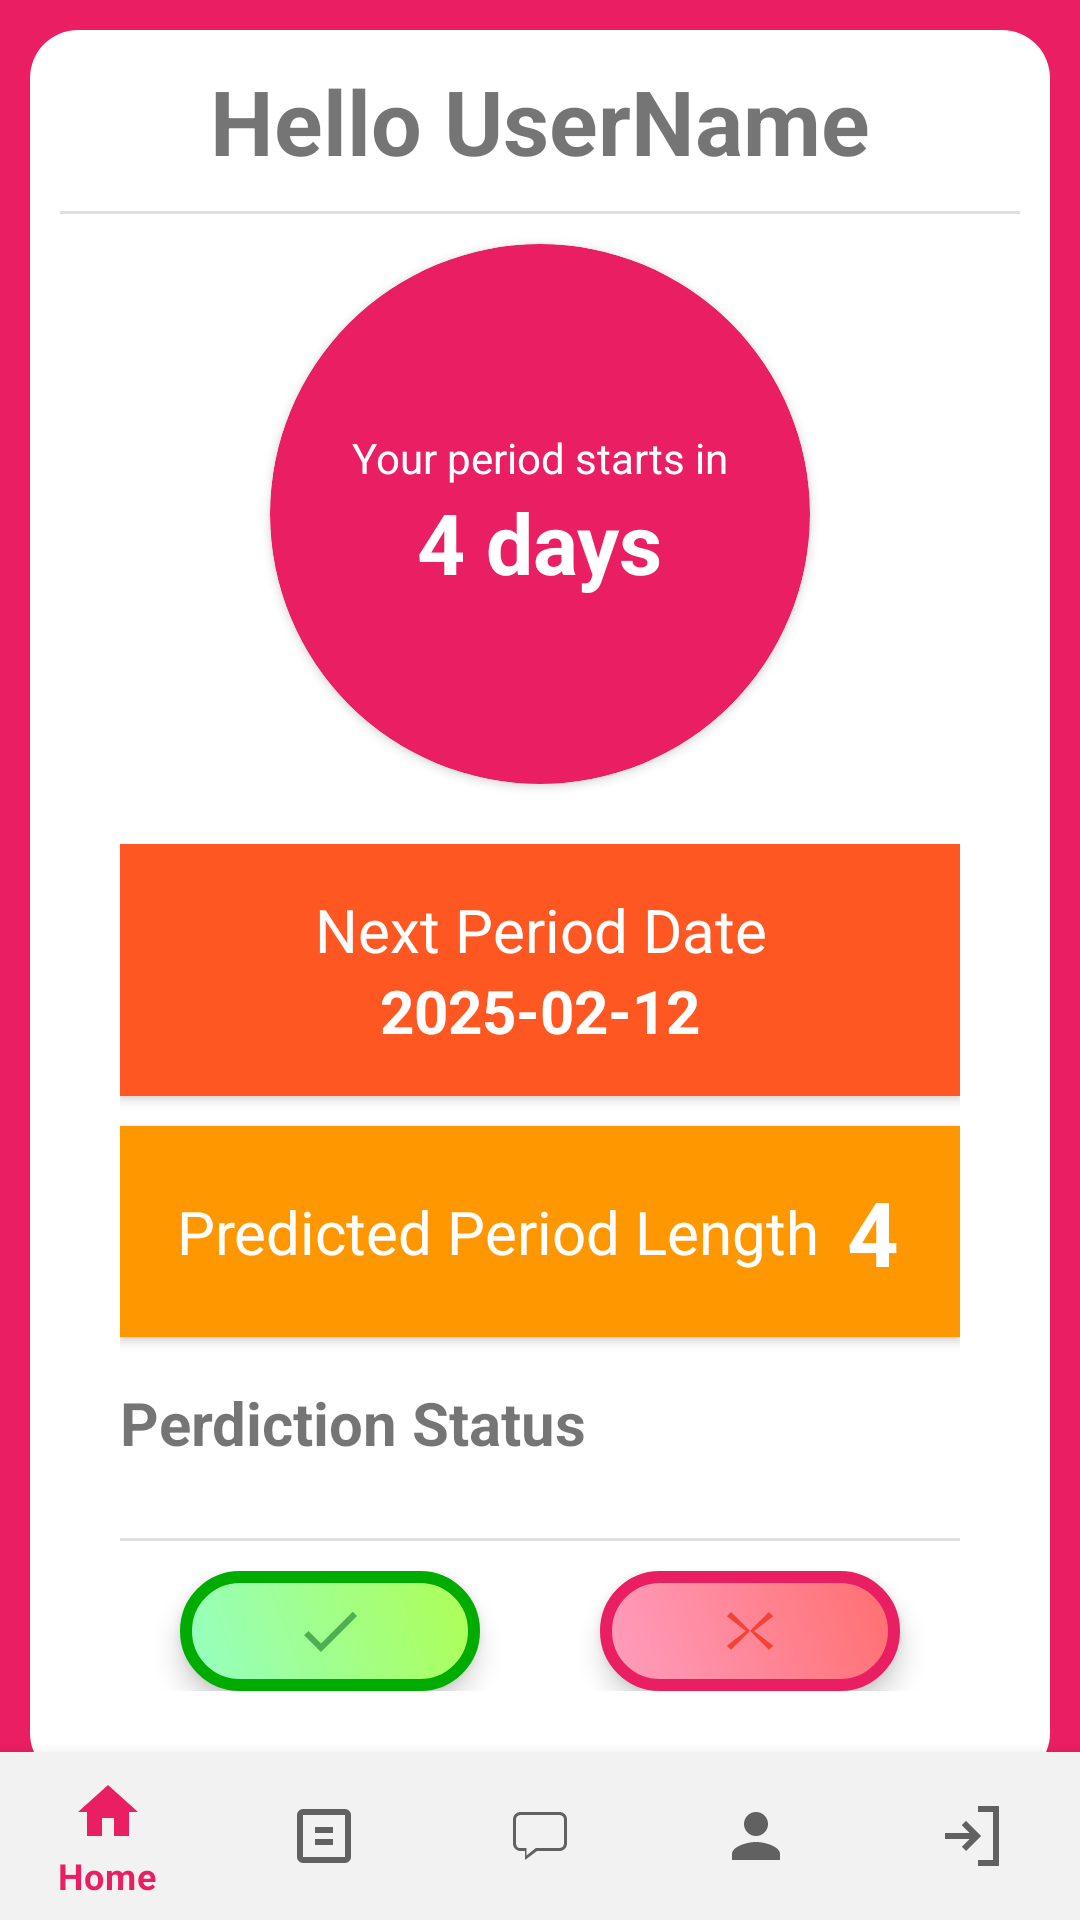

Icons on this 1080w x 1920h Android screen, each with the point to tap as [x,y]:
Correct Prediction: [330,1631]
Wrong Prediction: [750,1631]
